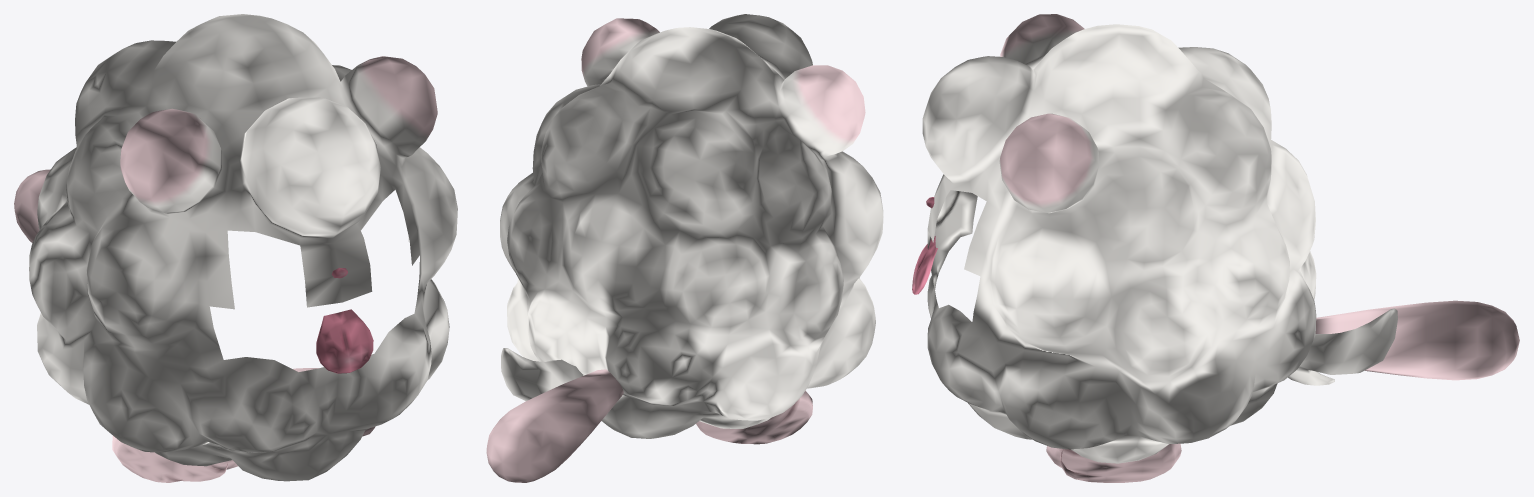
Rendered from 684-swirlix.gltf.
3 renders of one model, left to right at view 1: azimuth 30°, elevation 25°; view 2: azimuth 150°, elevation 25°; view 3: azimuth 270°, elevation 25°, orthographic. The views are drawn at different scales.
Visible parts, largest first — view 1: Swirlix, SwirlixFeet; view 2: Swirlix, SwirlixFeet; view 3: Swirlix, SwirlixFeet.
Boxes of the visible parts, <box> form: Swirlix: <box>14,14,457,481</box>; SwirlixFeet: <box>112,368,375,482</box>; Swirlix: <box>486,14,883,482</box>; SwirlixFeet: <box>696,390,812,444</box>; Swirlix: <box>912,14,1519,463</box>; SwirlixFeet: <box>1046,443,1181,482</box>.
Size of the model in its own units: 36.74 by 40.46 by 55.3.
3 materials, 3 textured.
